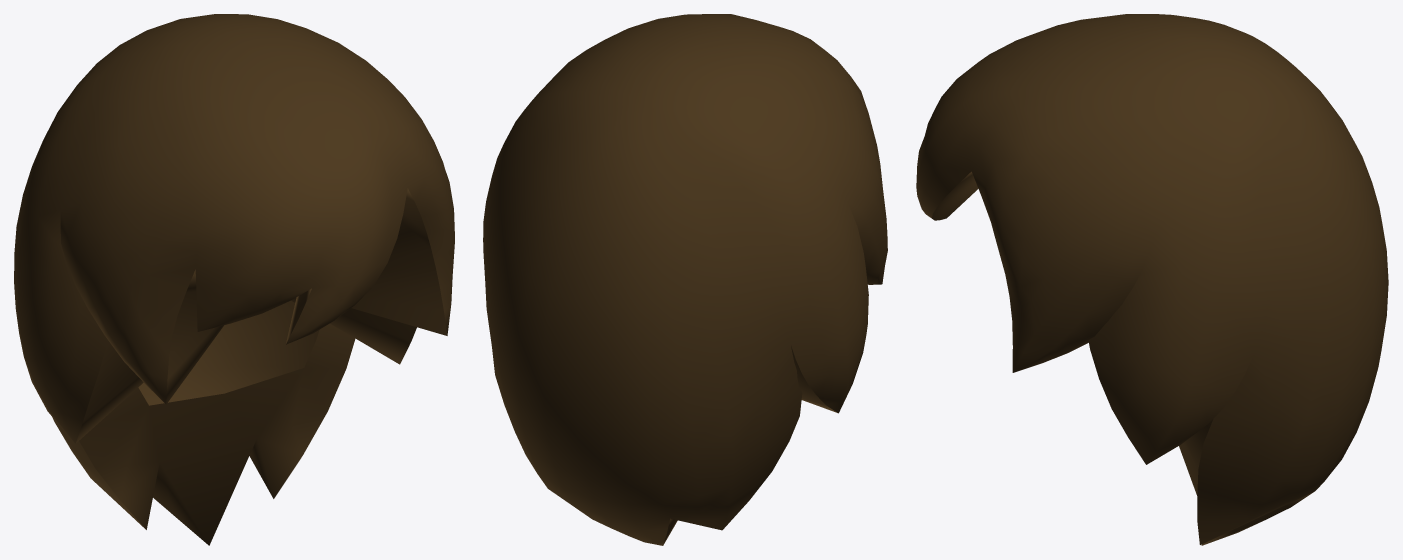
File: hair_000.gltf
3 views of the same model, side by side, from view 1: azimuth 30°, elevation 25°; view 2: azimuth 150°, elevation 25°; view 3: azimuth 270°, elevation 25° (orthographic). The views are drawn at different scales.
Visible parts, largest first — view 1: hair.134; view 2: hair.134; view 3: hair.134.
Boxes of the visible parts, x1,y1,x2,y2 form: hair.134: (14, 14, 454, 545); hair.134: (483, 14, 887, 545); hair.134: (916, 14, 1388, 545).
Size of the model in its own units: 0.1235 by 0.1601 by 0.1337.
